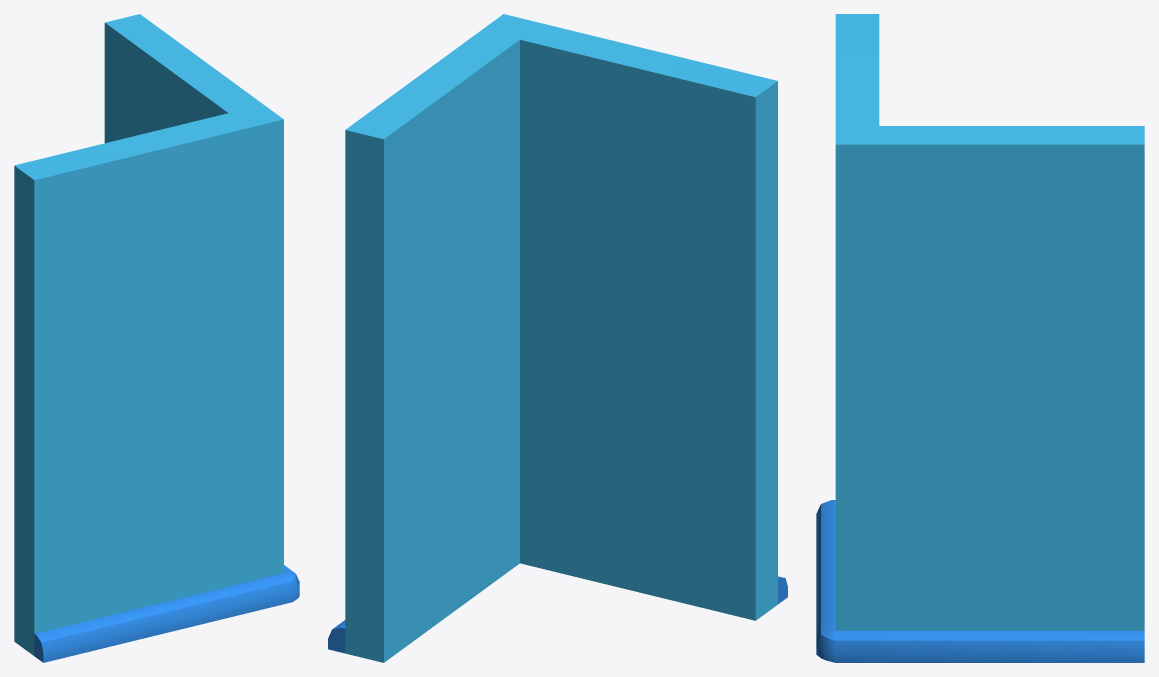
The model's file is B_WallCorner001.fbx.
The picture shows the model from 3 angles, left to right: view 1: azimuth 30°, elevation 25°; view 2: azimuth 150°, elevation 25°; view 3: azimuth 270°, elevation 25°; orthographic projection. The views are drawn at different scales.
Parts seen in each view (by area): view 1: WallCorner; view 2: WallCorner; view 3: WallCorner.
Part boxes in pixels (box(x1,y1,x2,y2)): WallCorner: box(14, 14, 299, 662); WallCorner: box(328, 14, 787, 662); WallCorner: box(816, 14, 1144, 662).
Bounding box in the file's own units: 146 × 250 × 146.
Materials: 1 (1 with a texture image).
